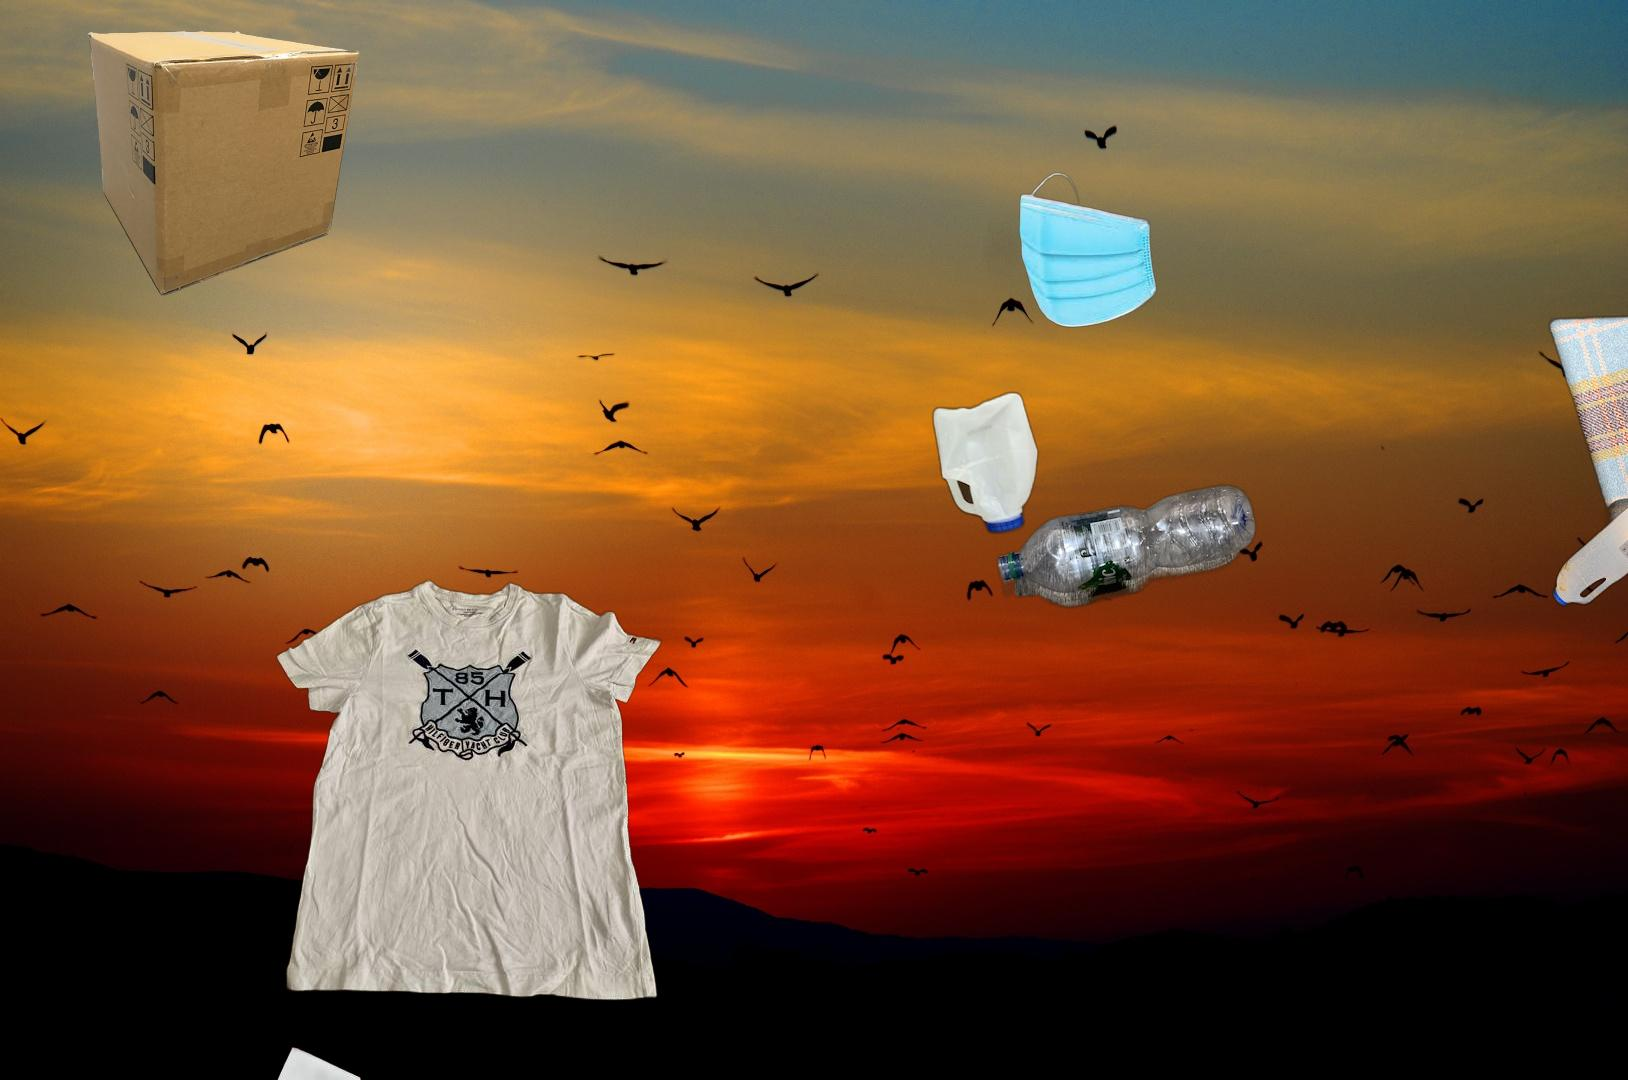clothes: (274, 576, 666, 1005)
paper-bag: (239, 1031, 531, 1080)
plastic-bottles: (994, 480, 1258, 612), (1545, 303, 1628, 641), (928, 386, 1044, 540), (95, 1076, 466, 1080)
trash: (1017, 170, 1159, 330)
trashbox-cardboard: (87, 30, 362, 297)
